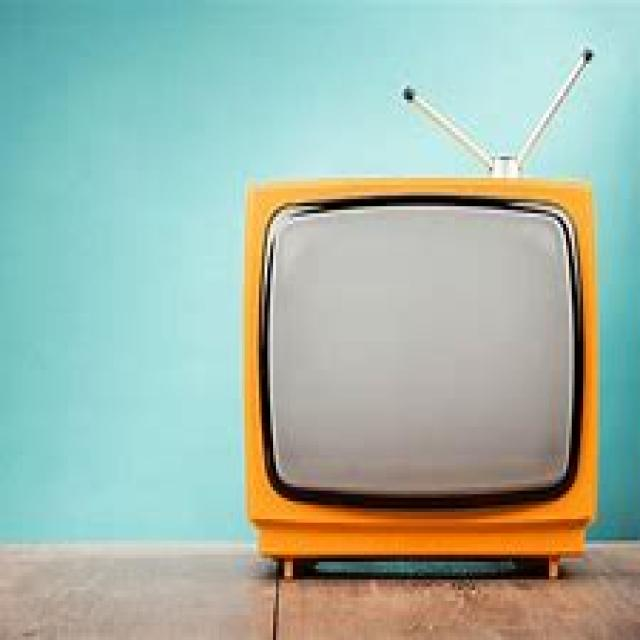tv: (242, 174, 597, 580)
